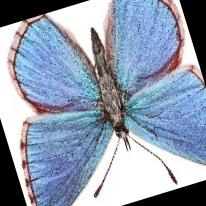butterfly: (8, 0, 206, 206)
